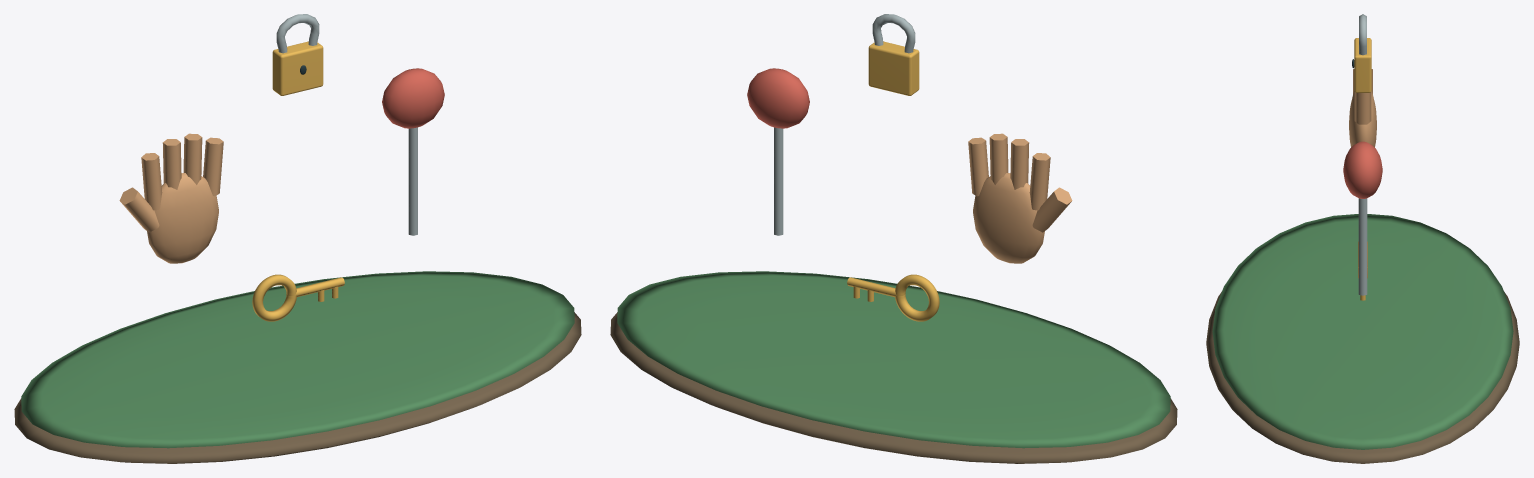
The model's file is complete-first-decision-fixed.glb.
3 renders of one model, left to right at view 1: azimuth 30°, elevation 25°; view 2: azimuth 150°, elevation 25°; view 3: azimuth 270°, elevation 25°, orthographic. The views are drawn at different scales.
Parts seen in each view (by area): view 1: complete-first-decision-fixed_surface_01, complete-first-decision-fixed_surface_00, complete-first-decision-fixed_surface_02, complete-first-decision-fixed_surface_05, complete-first-decision-fixed_surface_04, complete-first-decision-fixed_surface_03; view 2: complete-first-decision-fixed_surface_01, complete-first-decision-fixed_surface_00, complete-first-decision-fixed_surface_02, complete-first-decision-fixed_surface_05, complete-first-decision-fixed_surface_04, complete-first-decision-fixed_surface_03; view 3: complete-first-decision-fixed_surface_01, complete-first-decision-fixed_surface_00, complete-first-decision-fixed_surface_04, complete-first-decision-fixed_surface_02, complete-first-decision-fixed_surface_03, complete-first-decision-fixed_surface_05.
Part boxes in pixels (box(x1,y1,x2,y2)): complete-first-decision-fixed_surface_01: box(21, 271, 574, 448); complete-first-decision-fixed_surface_00: box(14, 312, 581, 463); complete-first-decision-fixed_surface_02: box(119, 133, 223, 263); complete-first-decision-fixed_surface_05: box(252, 41, 344, 321); complete-first-decision-fixed_surface_04: box(382, 68, 444, 128); complete-first-decision-fixed_surface_03: box(276, 14, 417, 235); complete-first-decision-fixed_surface_01: box(617, 271, 1170, 448); complete-first-decision-fixed_surface_00: box(610, 312, 1177, 463); complete-first-decision-fixed_surface_02: box(968, 133, 1072, 263); complete-first-decision-fixed_surface_05: box(847, 41, 939, 321); complete-first-decision-fixed_surface_04: box(747, 68, 809, 128); complete-first-decision-fixed_surface_03: box(774, 14, 915, 235); complete-first-decision-fixed_surface_01: box(1212, 214, 1513, 449); complete-first-decision-fixed_surface_00: box(1206, 291, 1519, 463); complete-first-decision-fixed_surface_04: box(1343, 141, 1382, 198); complete-first-decision-fixed_surface_02: box(1349, 69, 1376, 147); complete-first-decision-fixed_surface_03: box(1358, 14, 1367, 295); complete-first-decision-fixed_surface_05: box(1354, 38, 1371, 300).
Bounding box in the file's own units: 4.56 × 3 × 2.5.
